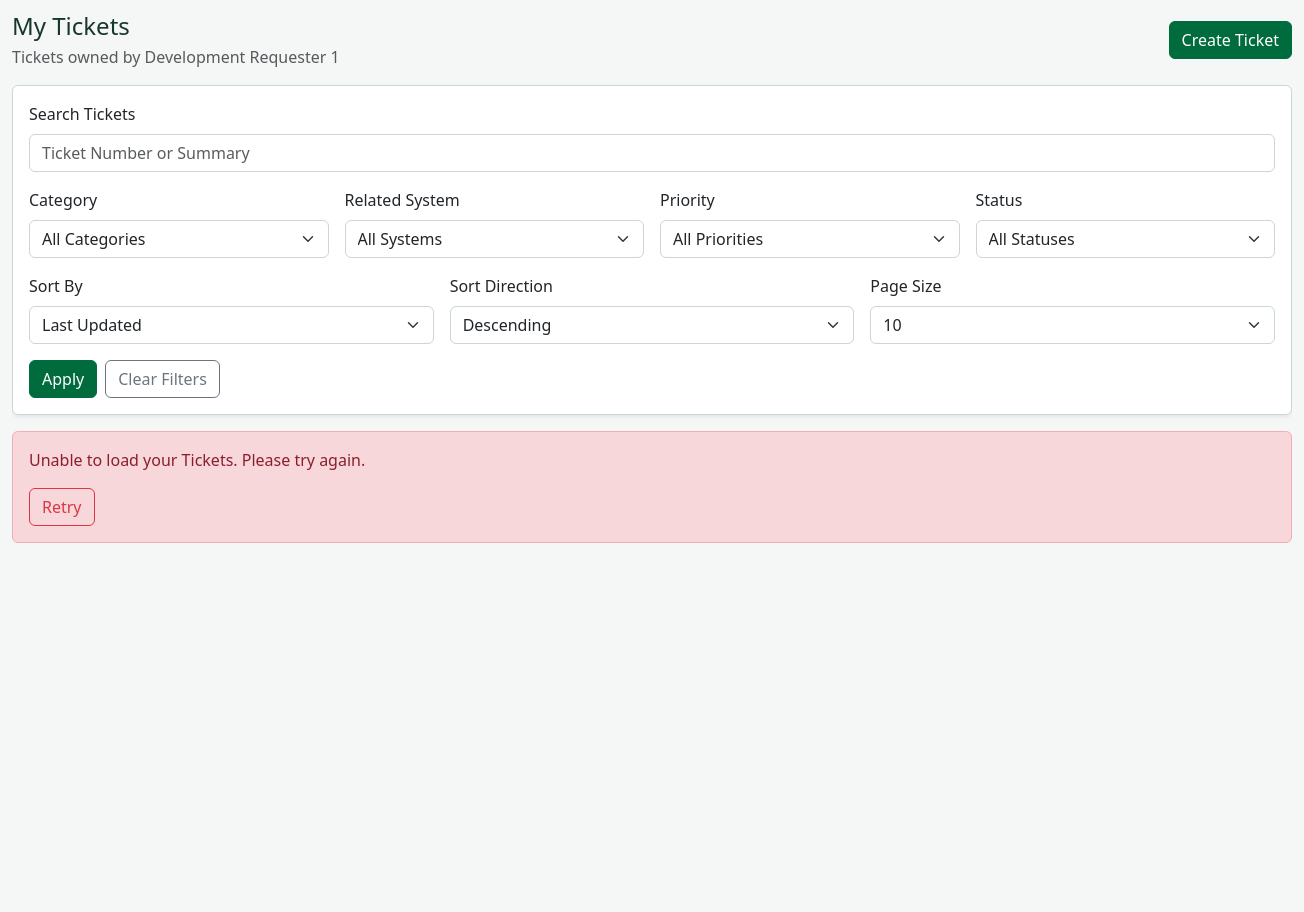
Test: My Tickets › shows a safe failure with Retry
This screenshot has width=1304, height=912.
Expected: the message shows "Unable to load your Tickets", [29,449,365,471]
Click the button "Retry" at (62, 507), box [29,488,94,526]
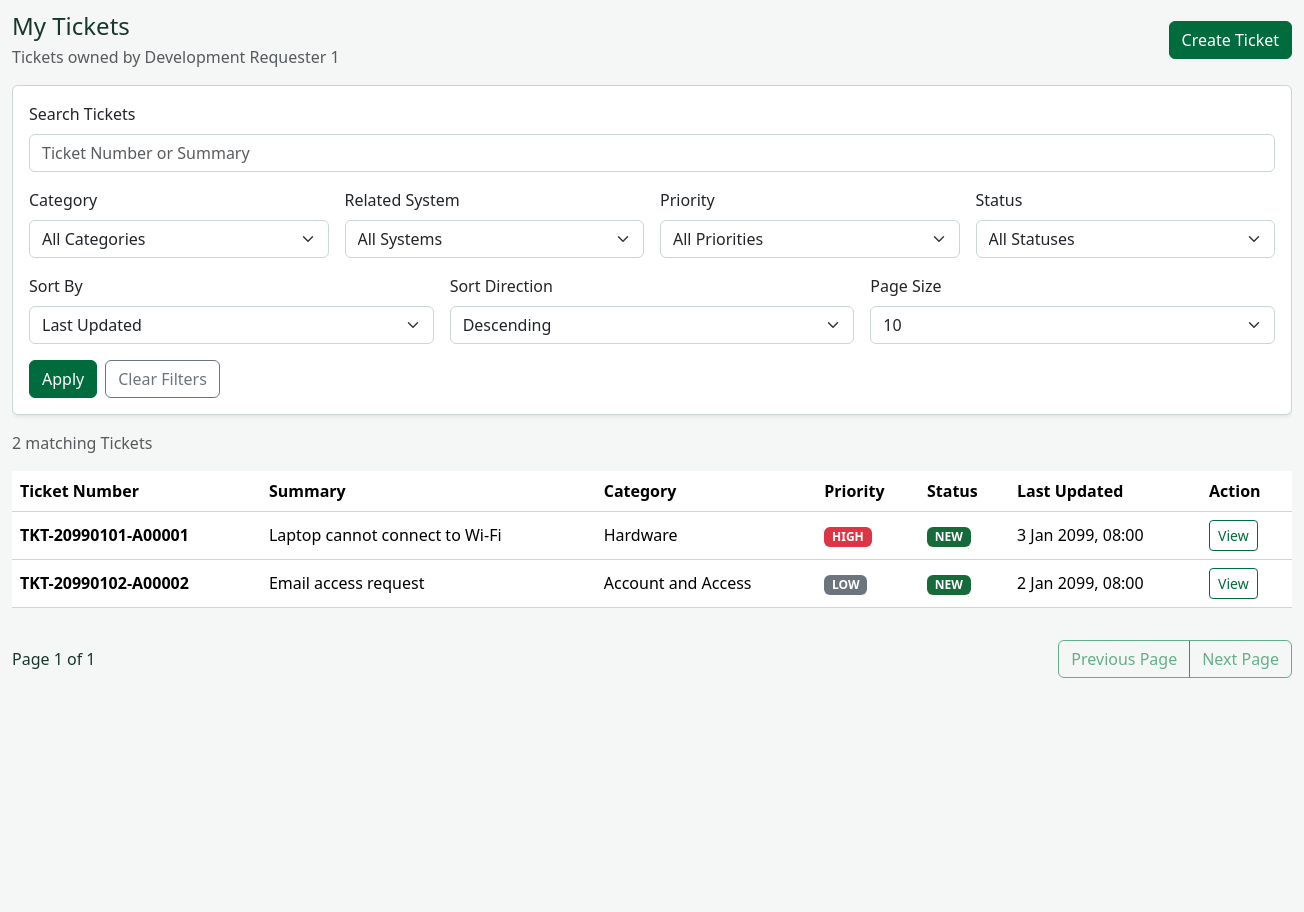
Expected: the table named "My Tickets table" is shown, [12,471,1292,608]
